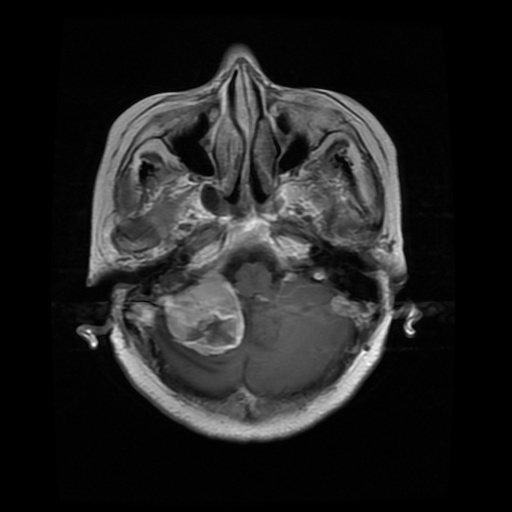meningioma: (153, 272, 245, 353)
